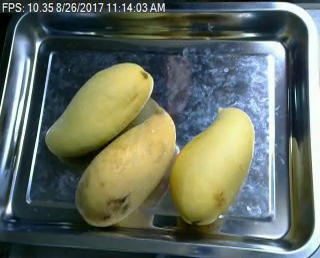Mango: (71, 97, 186, 224), (170, 102, 256, 229), (44, 60, 152, 155)
